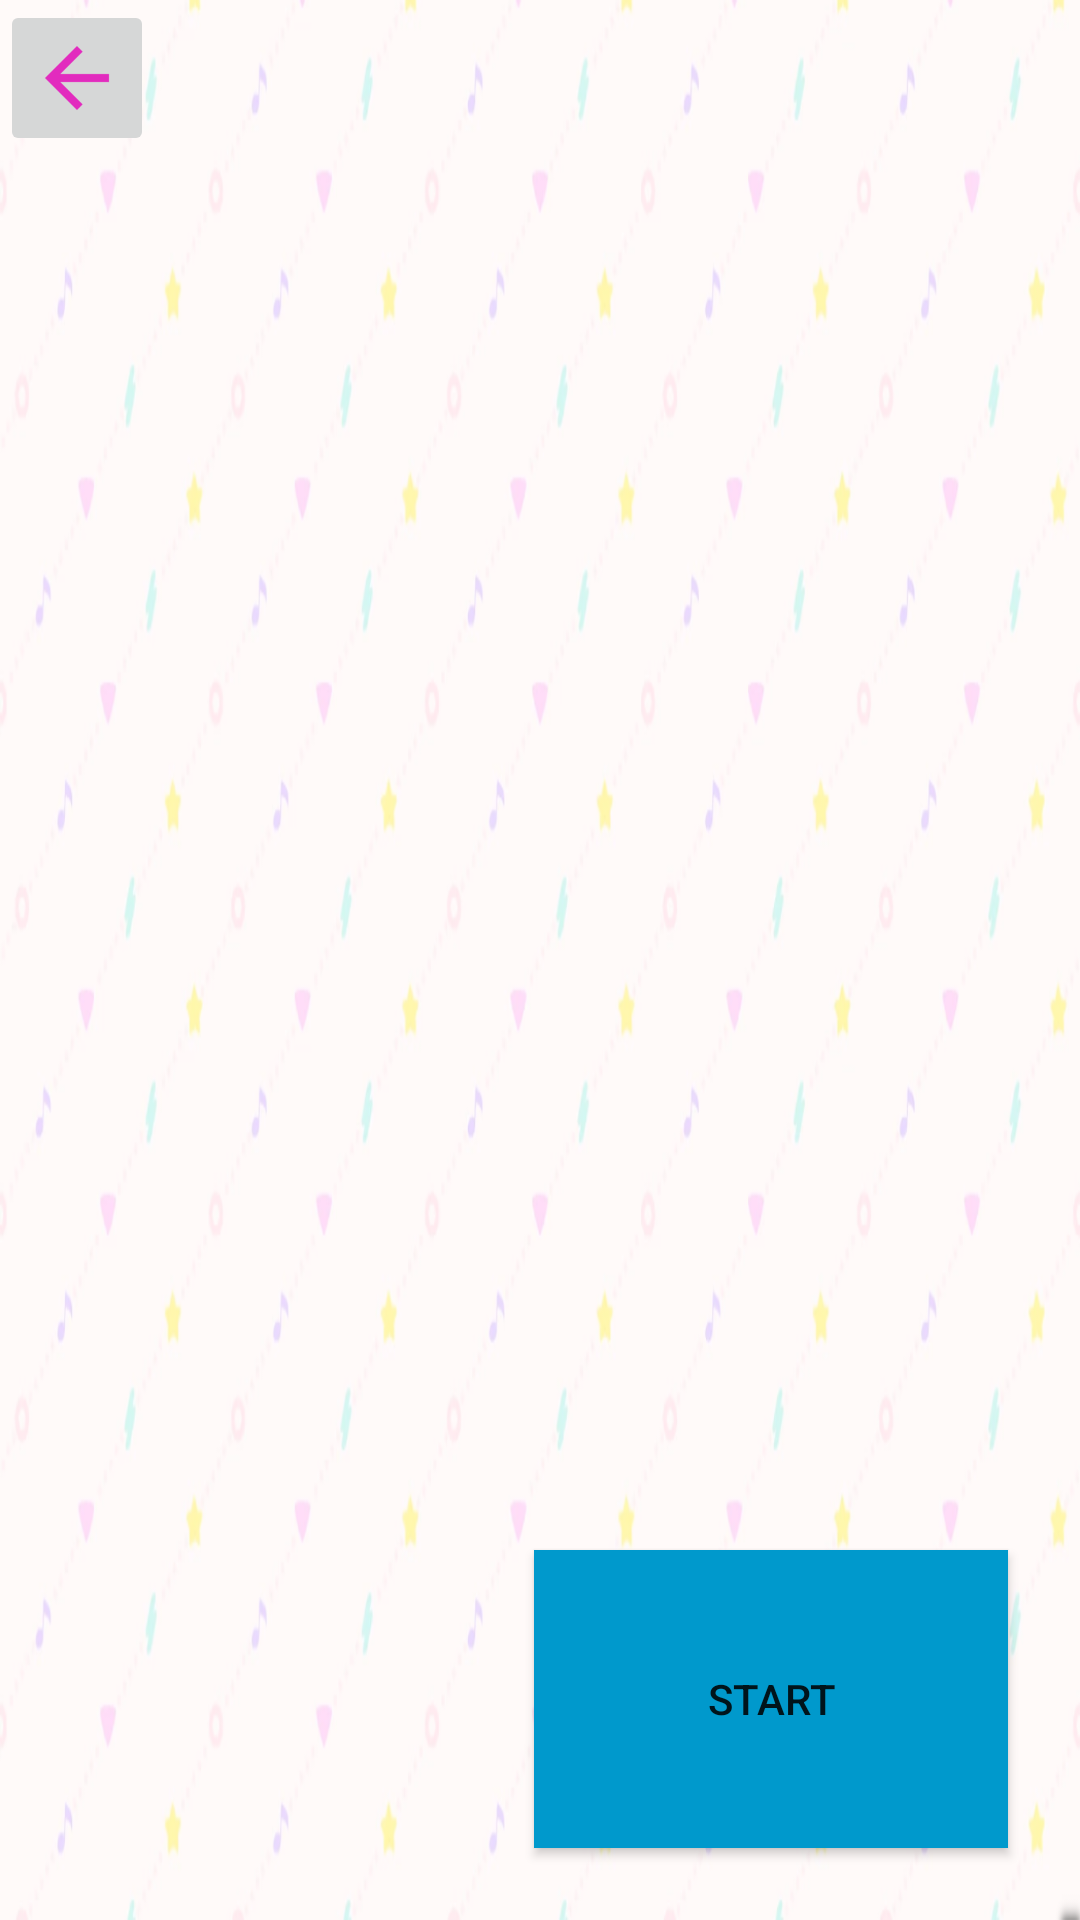

Icons on this 1080×1920 Android screen, each with the point to tap as [x,y]:
return: [83,69]
